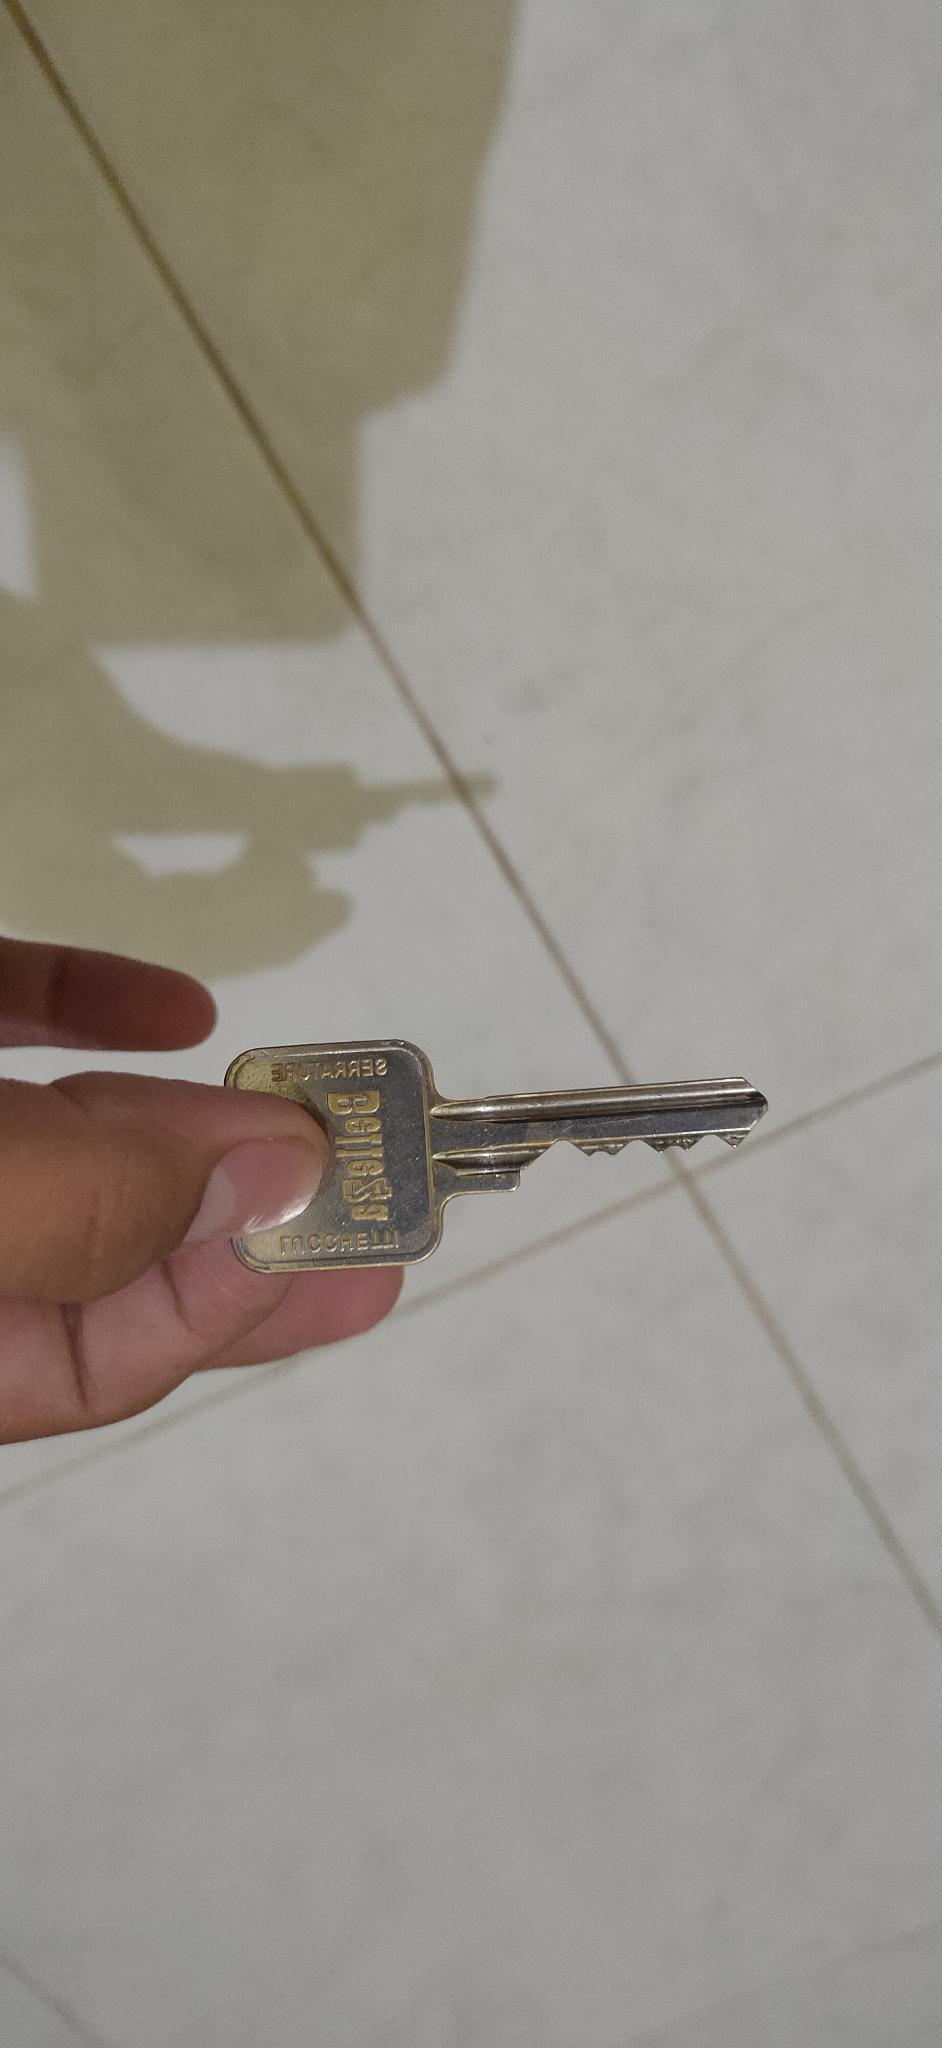keys: (191, 1019, 783, 1351)
